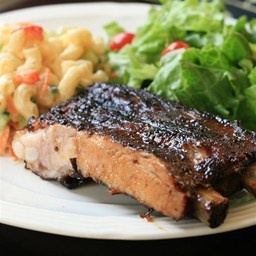background: (0, 0, 102, 92)
